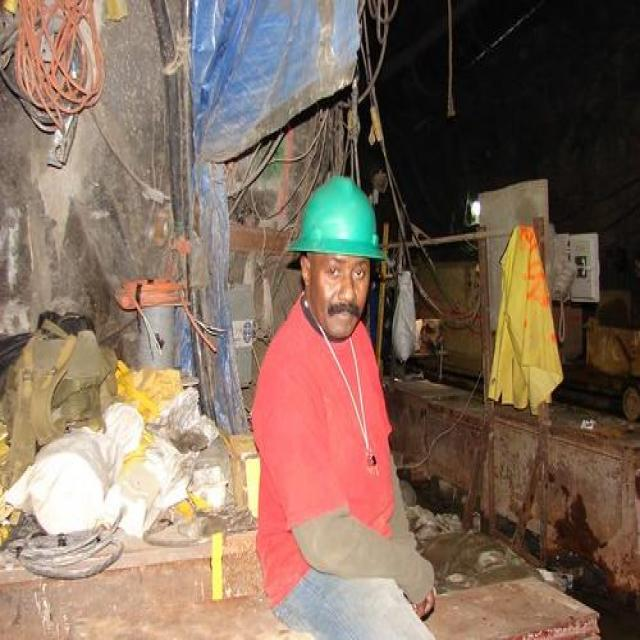Reflective-Jacket: (243, 298, 411, 588)
Safety-Helmet: (284, 171, 392, 271)
